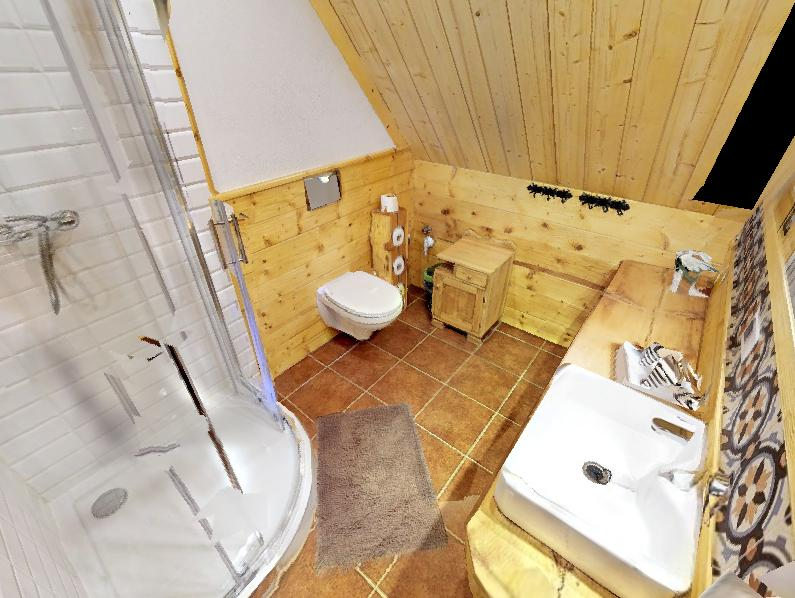shower: (0, 0, 319, 598)
sink: (481, 344, 745, 598)
toilet: (306, 261, 414, 351)
